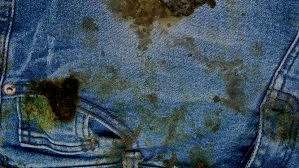earth: (121, 0, 208, 23), (38, 76, 81, 121), (266, 106, 295, 142), (223, 67, 246, 112), (116, 135, 135, 150)
